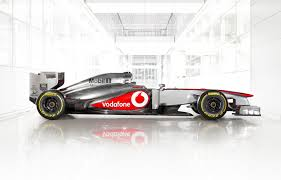f1_car: (24, 65, 269, 127)
